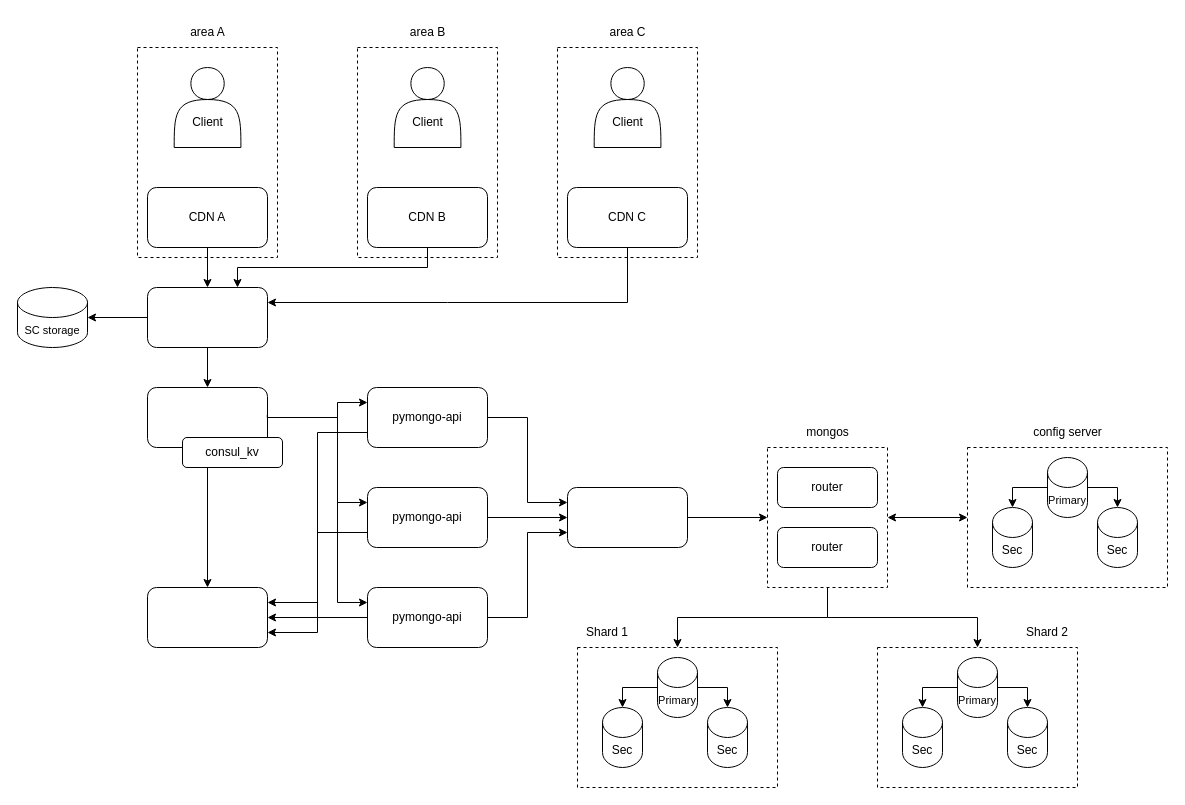
Image size: 1185x805. Some labels were removed from this diagram. The centre of each missing label's shape, as x and y in pixels:
API Gateway: (207,417)
CDN main: (207,317)
Consul: (207,617)
Redis: (627,517)
